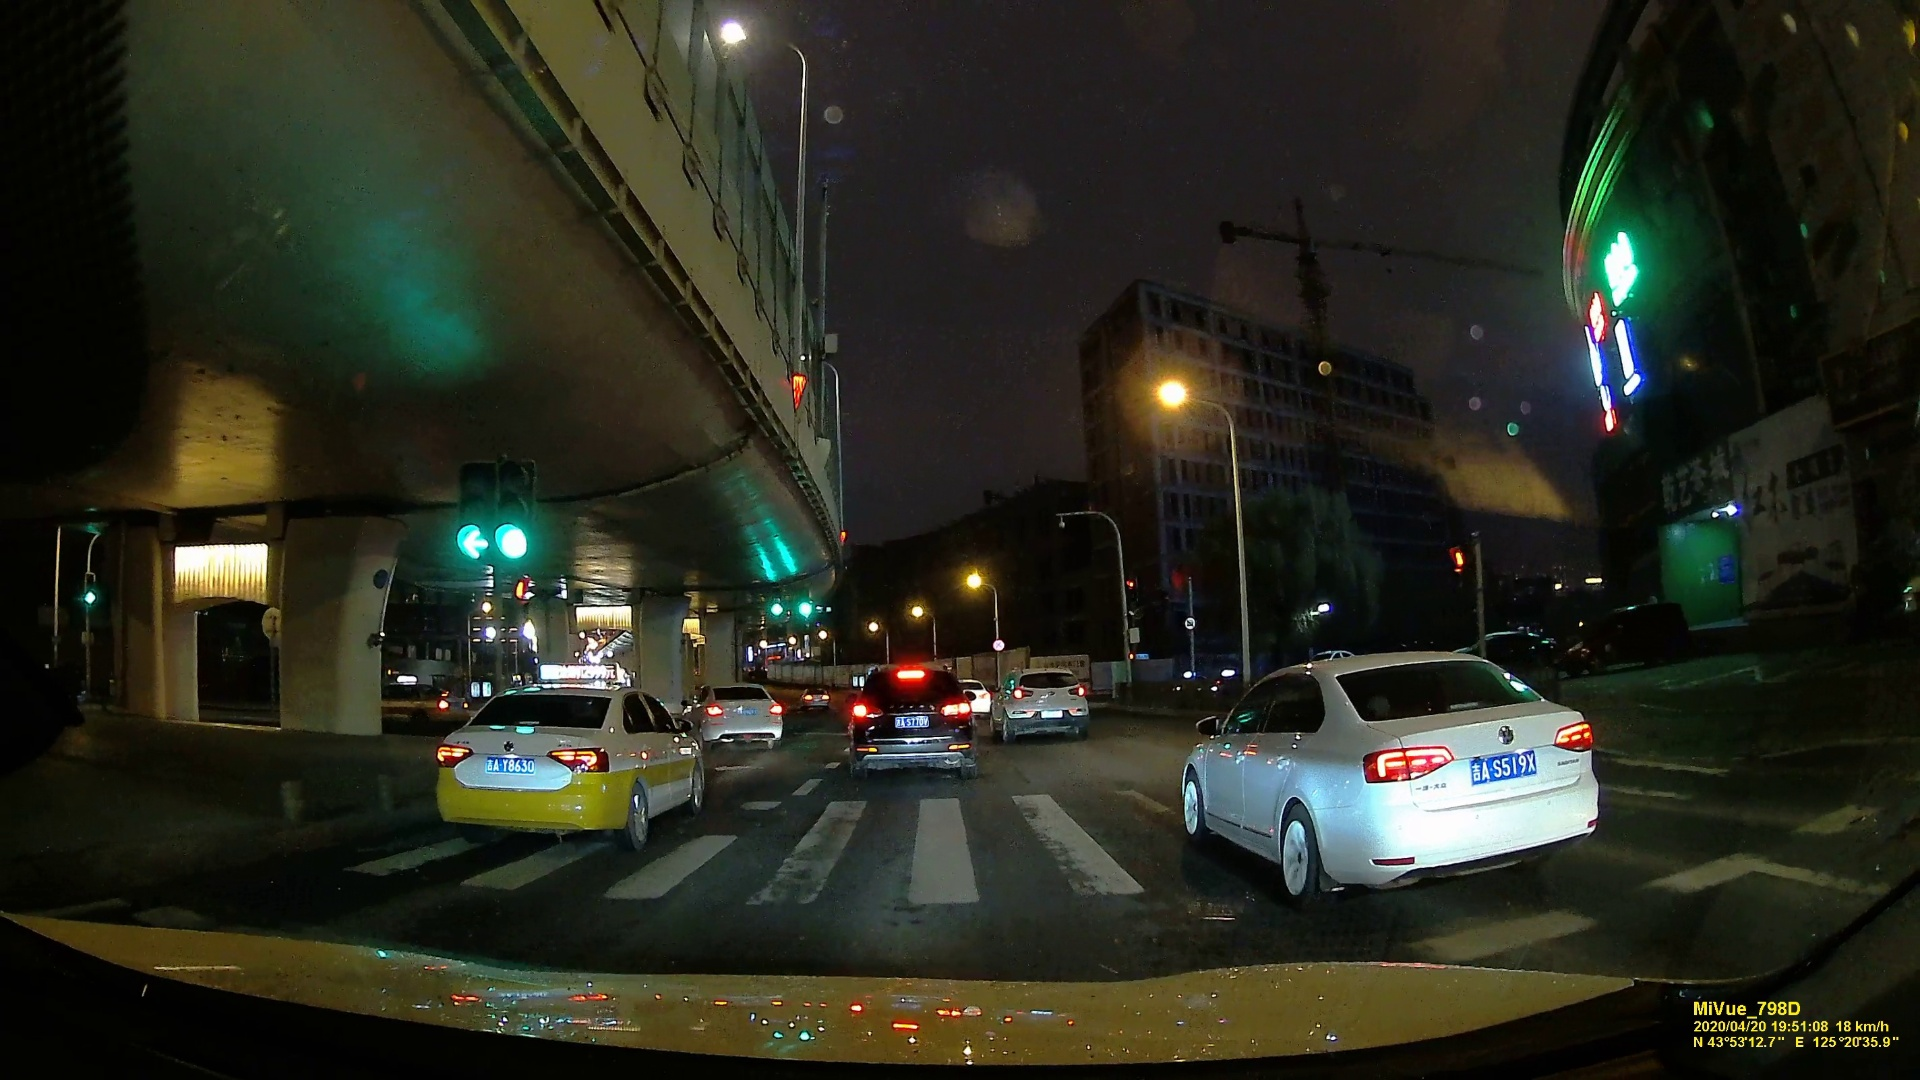traffic_sign: (458, 459, 493, 560), (512, 572, 530, 604), (796, 585, 814, 616), (770, 585, 785, 616), (1183, 617, 1197, 630)
vehicle: (1174, 644, 1610, 906), (431, 679, 702, 852), (844, 658, 982, 783), (992, 665, 1091, 740), (684, 680, 781, 753), (496, 462, 531, 558), (802, 688, 829, 709)
